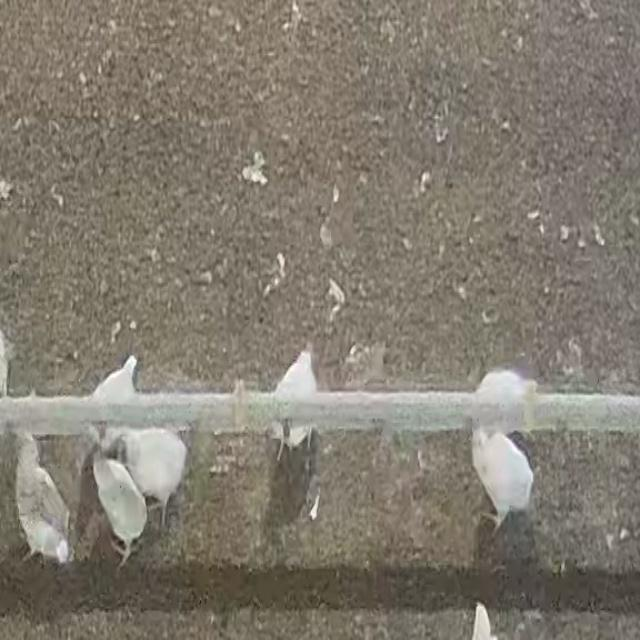chicken: (7, 434, 73, 569), (87, 450, 151, 572), (469, 430, 536, 539), (265, 345, 319, 463)
